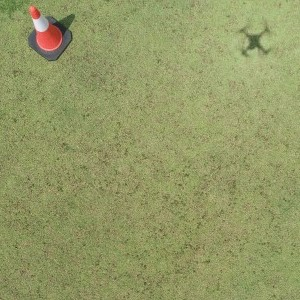traffic cone: (28, 5, 72, 61)
